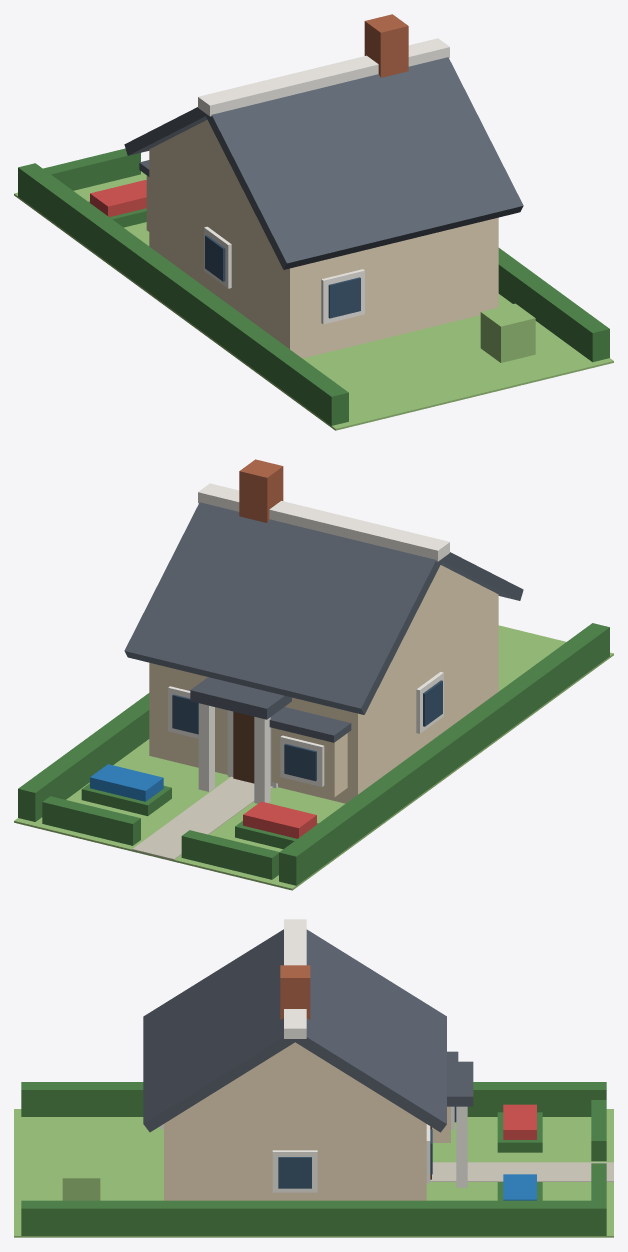
3 renders of one model, top to bottom at view 1: azimuth 30°, elevation 25°; view 2: azimuth 150°, elevation 25°; view 3: azimuth 270°, elevation 25°, orthographic. The views are drawn at different scales.
Visible parts, largest first — view 1: roof (×2), house, hedge (×3), lawn, ridge, gable, tree_spot, chimney, window_glass (×2), window_frame (×2), flower_bed; view 2: roof (×2), hedge (×4), house, lawn, ridge, gable, path, flower_bed (×2), porch_post (×2), window_glass (×3), porch_roof, bay_window (+6 smaller); view 3: roof (×2), hedge (×4), lawn, house, gable, path, flower_bed (×2), ridge, tree_spot, chimney, porch_roof, window_glass (+3 smaller).
Part boxes in pixels (bbox=[...]): roof (×2): bbox=[124, 57, 523, 269]; house: bbox=[149, 149, 498, 358]; hedge (×3): bbox=[18, 148, 609, 425]; lawn: bbox=[14, 171, 613, 430]; ridge: bbox=[198, 38, 449, 116]; gable: bbox=[149, 119, 264, 233]; tree_spot: bbox=[480, 303, 535, 362]; chimney: bbox=[364, 14, 408, 77]; window_glass (×2): bbox=[205, 235, 360, 318]; window_frame (×2): bbox=[204, 226, 364, 324]; flower_bed: bbox=[90, 180, 146, 216]; roof (×2): bbox=[124, 502, 523, 714]; hedge (×4): bbox=[18, 623, 609, 885]; house: bbox=[149, 595, 498, 803]; lawn: bbox=[14, 625, 613, 890]; ridge: bbox=[198, 483, 449, 561]; gable: bbox=[383, 565, 498, 678]; path: bbox=[132, 776, 272, 860]; flower_bed (×2): bbox=[90, 764, 316, 838]; porch_post (×2): bbox=[198, 703, 270, 803]; window_glass (×3): bbox=[172, 680, 442, 781]; porch_roof: bbox=[190, 677, 291, 719]; bay_window: bbox=[272, 728, 347, 797]; roof (×2): bbox=[143, 929, 446, 1132]; hedge (×4): bbox=[21, 1082, 606, 1235]; lawn: bbox=[14, 1109, 613, 1237]; house: bbox=[164, 1118, 426, 1200]; gable: bbox=[174, 1042, 416, 1117]; path: bbox=[430, 1162, 613, 1181]; flower_bed (×2): bbox=[503, 1104, 536, 1200]; ridge: bbox=[284, 919, 306, 1038]; tree_spot: bbox=[62, 1162, 100, 1200]; chimney: bbox=[280, 965, 310, 1019]; porch_roof: bbox=[447, 1061, 473, 1106]; window_glass: bbox=[278, 1157, 311, 1188].
Size of the model in its own units: 8 by 6.8 by 16.
